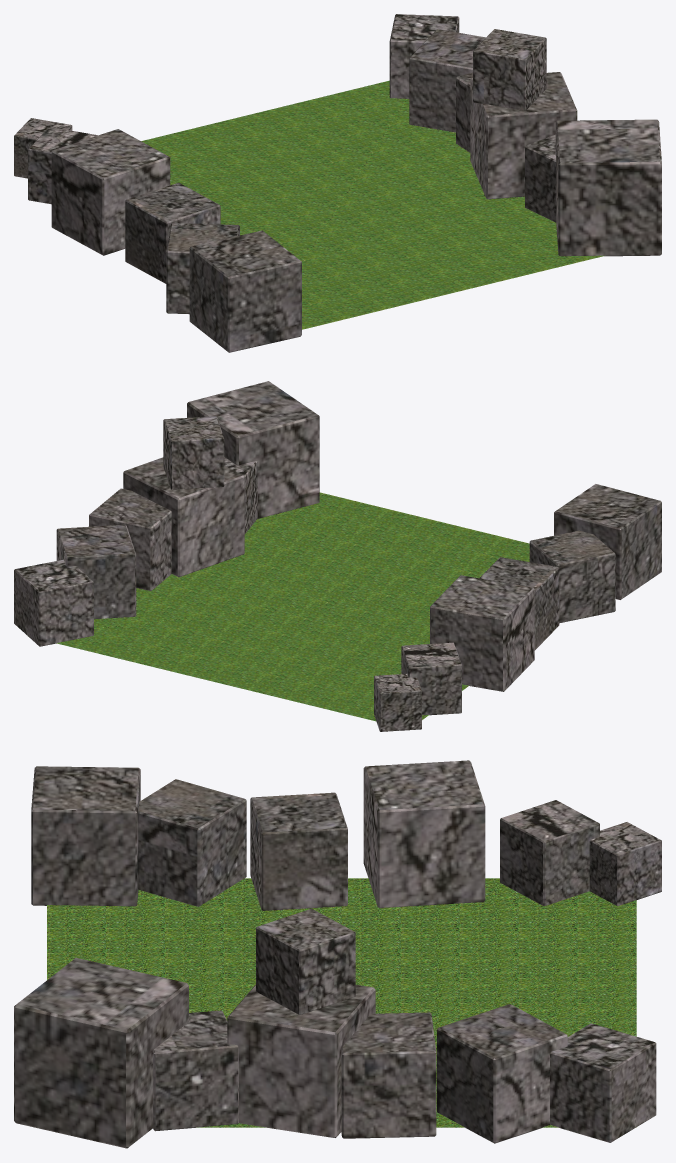
File: road.FBX
The picture shows the model from 3 angles, top to bottom: view 1: azimuth 30°, elevation 25°; view 2: azimuth 150°, elevation 25°; view 3: azimuth 270°, elevation 25°; orthographic projection. The views are drawn at different scales.
Parts seen in each view (by area): view 1: road, Cube.036, Cube.037, Cube.040, Cube.034, Cube.039, Cube.041, Cube.032, Cube.038, Cube.029, Cube.035, Cube.031 (+2 smaller); view 2: road, Cube.036, Cube.040, Cube.034, Cube.037, Cube.029, Cube.038, Cube.032, Cube.033, Cube.041, Cube.031, Cube.039 (+2 smaller); view 3: road, Cube.036, Cube.040, Cube.037, Cube.034, Cube.032, Cube.038, Cube.033, Cube.039, Cube.029, Cube.035, Cube.041 (+2 smaller).
Part boxes in pixels (bbox=[...]): road: bbox=[141, 80, 604, 329]; Cube.036: bbox=[555, 119, 661, 256]; Cube.037: bbox=[189, 230, 301, 352]; Cube.040: bbox=[51, 129, 170, 255]; Cube.034: bbox=[470, 72, 577, 199]; Cube.039: bbox=[125, 182, 220, 283]; Cube.041: bbox=[473, 29, 546, 110]; Cube.032: bbox=[409, 29, 485, 132]; Cube.038: bbox=[166, 223, 239, 314]; Cube.029: bbox=[389, 14, 459, 98]; Cube.035: bbox=[525, 134, 556, 222]; Cube.031: bbox=[28, 127, 97, 204]; road: bbox=[56, 492, 529, 721]; Cube.036: bbox=[187, 381, 319, 518]; Cube.040: bbox=[430, 575, 534, 691]; Cube.034: bbox=[123, 457, 244, 577]; Cube.037: bbox=[554, 484, 661, 599]; Cube.029: bbox=[14, 559, 93, 646]; Cube.038: bbox=[529, 530, 615, 623]; Cube.032: bbox=[56, 524, 136, 619]; Cube.033: bbox=[89, 488, 171, 590]; Cube.041: bbox=[163, 416, 224, 489]; Cube.031: bbox=[401, 642, 461, 715]; Cube.039: bbox=[479, 557, 559, 650]; road: bbox=[47, 878, 636, 1127]; Cube.036: bbox=[14, 958, 188, 1148]; Cube.040: bbox=[363, 760, 485, 907]; Cube.037: bbox=[31, 766, 140, 906]; Cube.034: bbox=[227, 984, 375, 1137]; Cube.032: bbox=[437, 1004, 567, 1143]; Cube.038: bbox=[138, 779, 246, 906]; Cube.033: bbox=[341, 1012, 436, 1138]; Cube.039: bbox=[250, 792, 347, 910]; Cube.029: bbox=[550, 1023, 656, 1142]; Cube.035: bbox=[153, 1010, 238, 1131]; Cube.041: bbox=[256, 908, 355, 1014].
Size of the model in its own units: 1169 by 1099 by 322.
